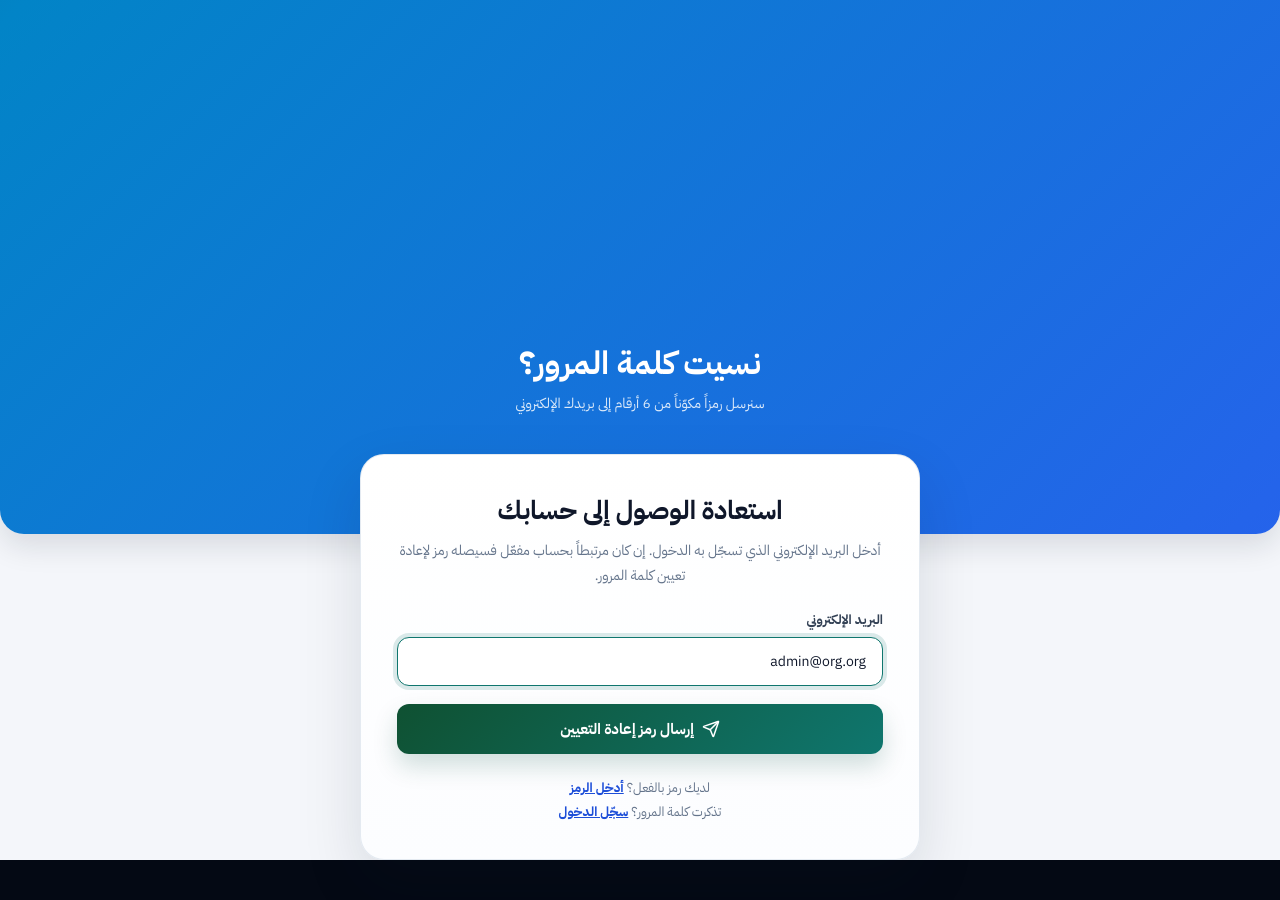
forgot-password page › a network failure shows the error banner and keeps the form usable
Earlier steps of the test are not shown.
(page scrolled)
Click the button "إرسال رمز إعادة التعيين".
click(640, 729)  # box [397,704,883,754]
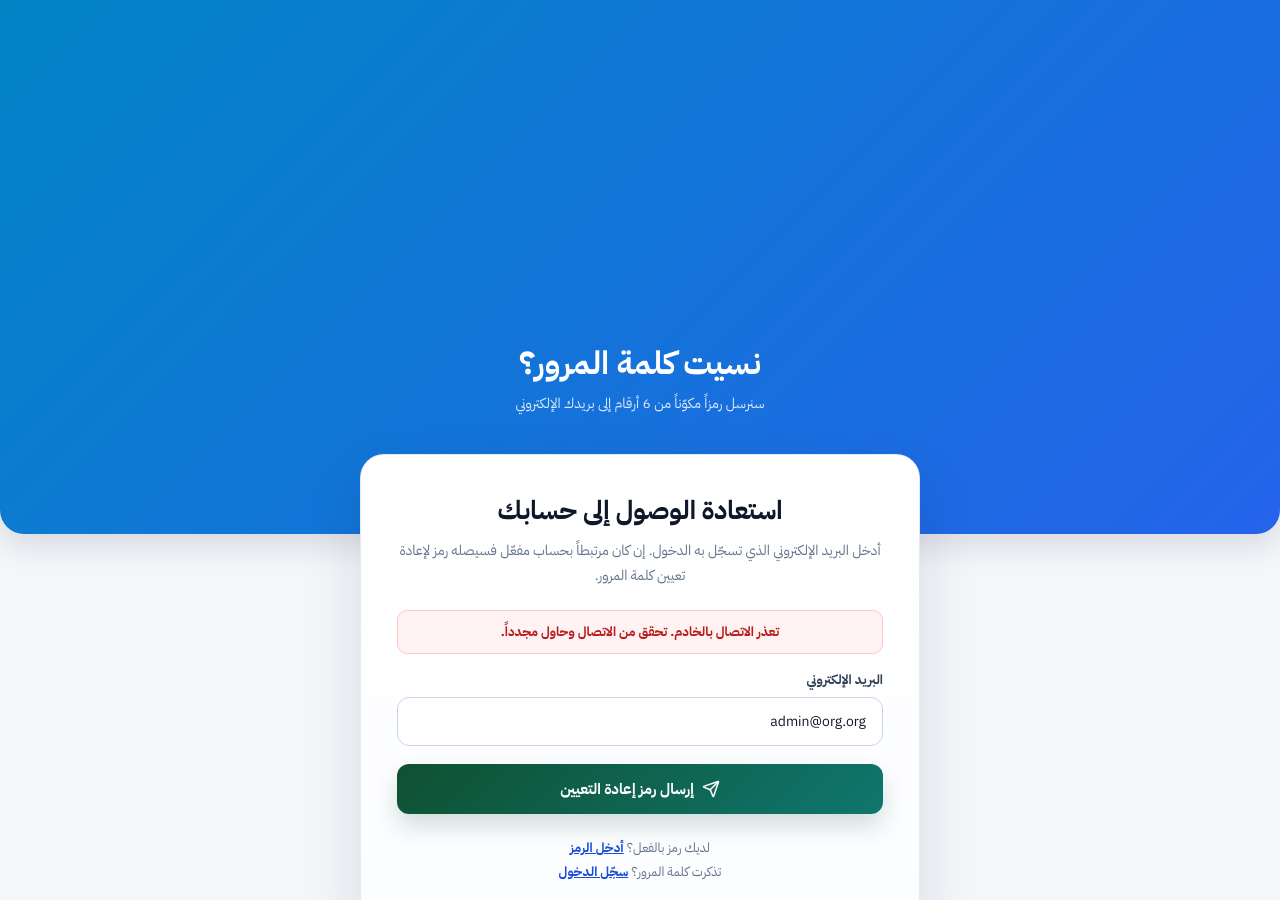
Check: the button "إرسال رمز إعادة التعيين" is enabled, box [397,764,883,814]
Check: the message shows "تعذر الاتصال بالخادم", box [501,622,779,641]
